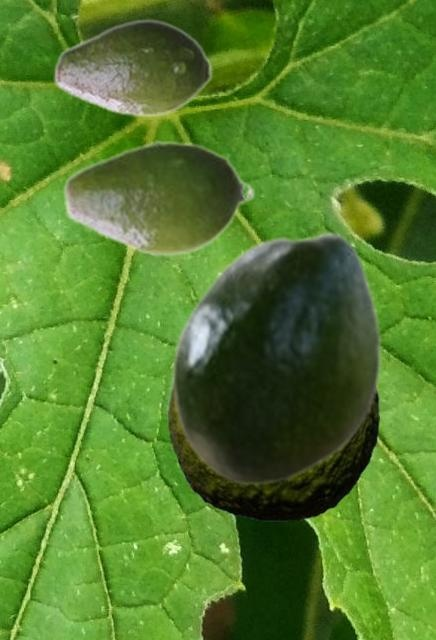avocado: (170, 230, 381, 485), (167, 379, 378, 520), (61, 138, 255, 257), (53, 18, 212, 117)
